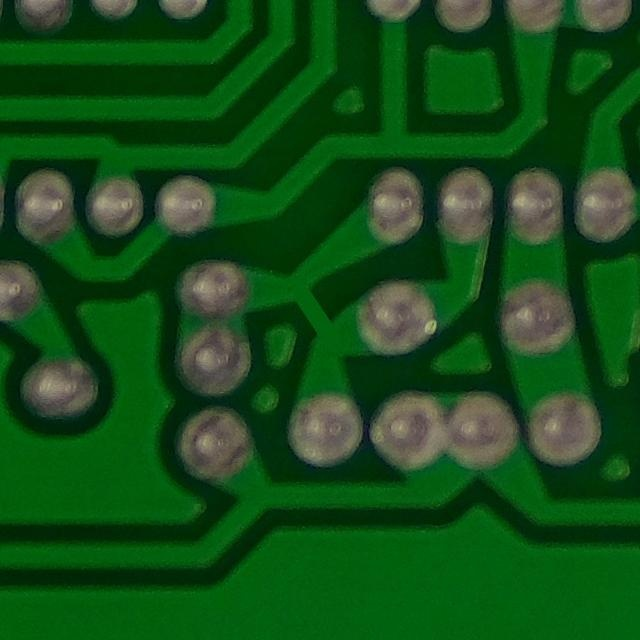short: (275, 260, 365, 379)
